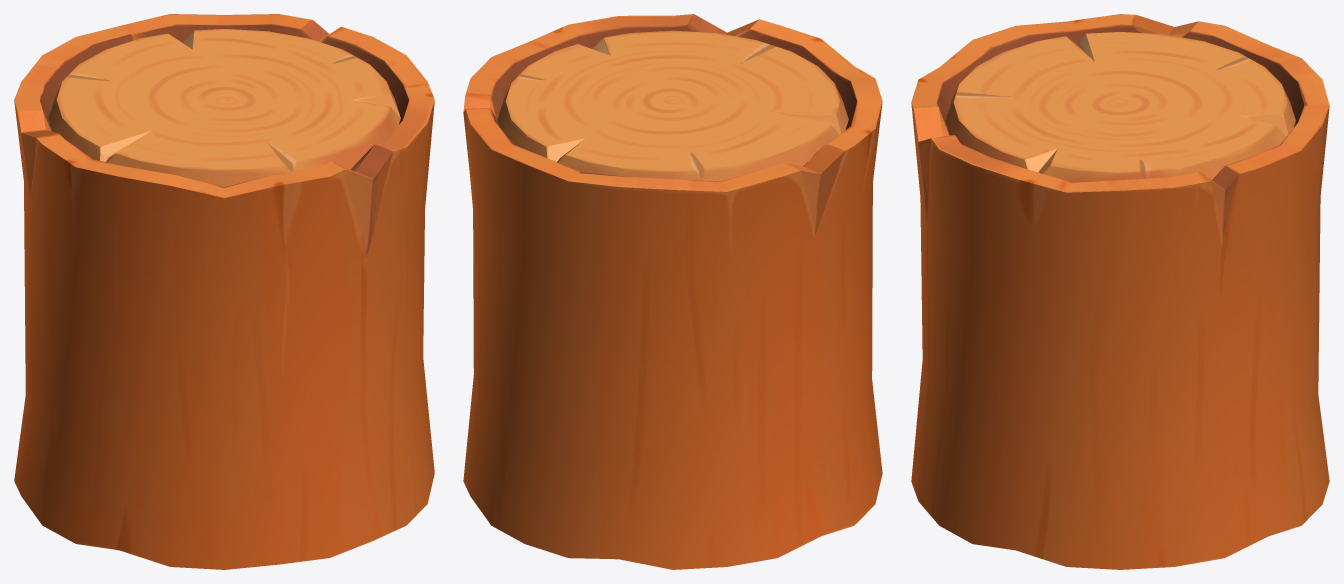
The model's file is TruGo.fbx.
3 views of the same model, side by side, from view 1: azimuth 30°, elevation 25°; view 2: azimuth 150°, elevation 25°; view 3: azimuth 270°, elevation 25° (orthographic).
Visible parts, largest first — view 1: trugo; view 2: trugo; view 3: trugo.
Part boxes in pixels (x1,y1,x2,y2): trugo: [14, 14, 434, 569]; trugo: [463, 14, 882, 569]; trugo: [911, 14, 1329, 569].
Bounding box in the file's own units: 1 × 1.01 × 1.
1 material, 1 textured.
